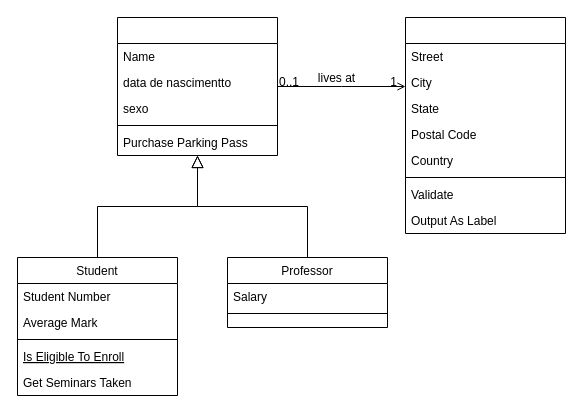
Image size: 583x416. Some labels were removed from this diagram. Each missing label, with the box of its shape:
Address: (404, 16, 566, 234)
Funcionário: (116, 16, 278, 156)
